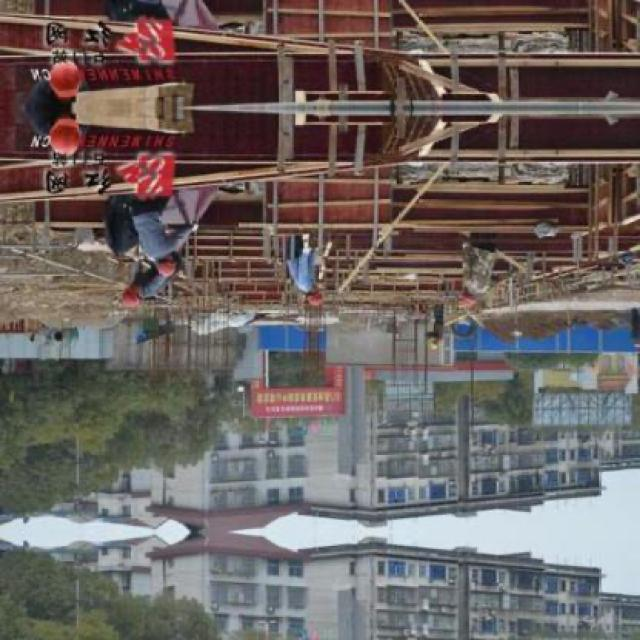con casco: (95, 278, 208, 331), (268, 266, 351, 331), (24, 111, 97, 169), (402, 311, 464, 356), (146, 240, 190, 288), (441, 272, 484, 316)
